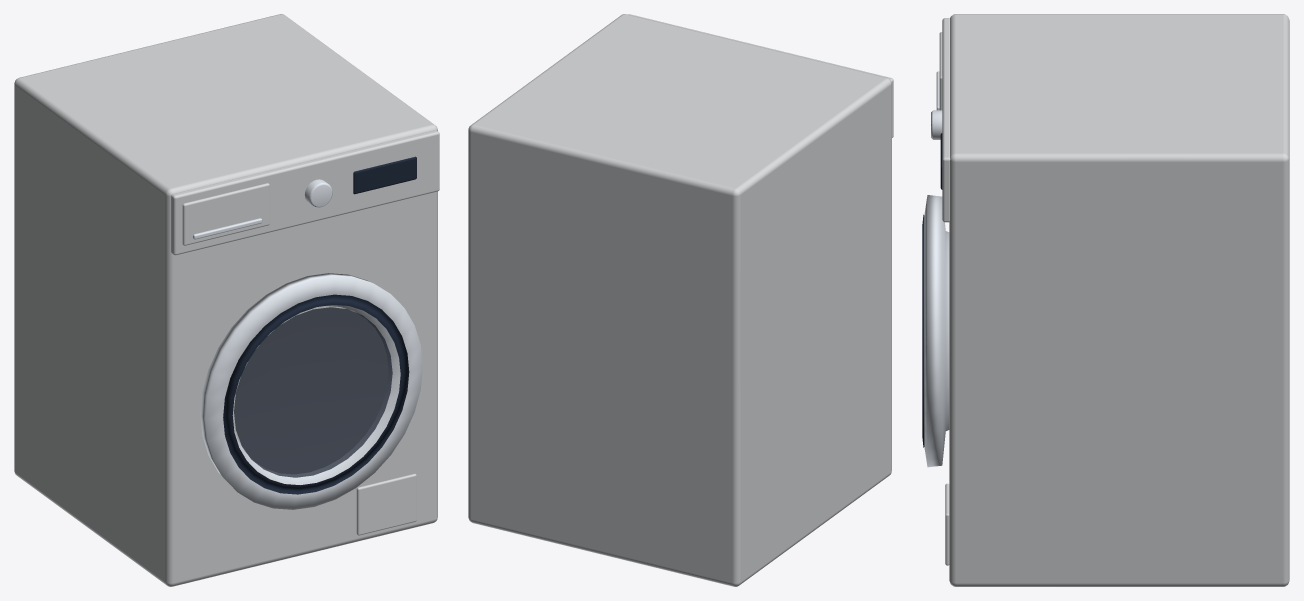
The model's file is obj_washer_dryer_600.glb.
3 renders of one model, left to right at view 1: azimuth 30°, elevation 25°; view 2: azimuth 150°, elevation 25°; view 3: azimuth 270°, elevation 25°, orthographic. The views are drawn at different scales.
Visible parts, largest first — view 1: obj_washer_dryer_600; view 2: obj_washer_dryer_600; view 3: obj_washer_dryer_600.
Part boxes in pixels (x1,y1,x2,y2): obj_washer_dryer_600: [14, 14, 439, 586]; obj_washer_dryer_600: [468, 14, 893, 586]; obj_washer_dryer_600: [922, 14, 1289, 586].
Size of the model in its own units: 0.596 by 0.834 by 0.641.
